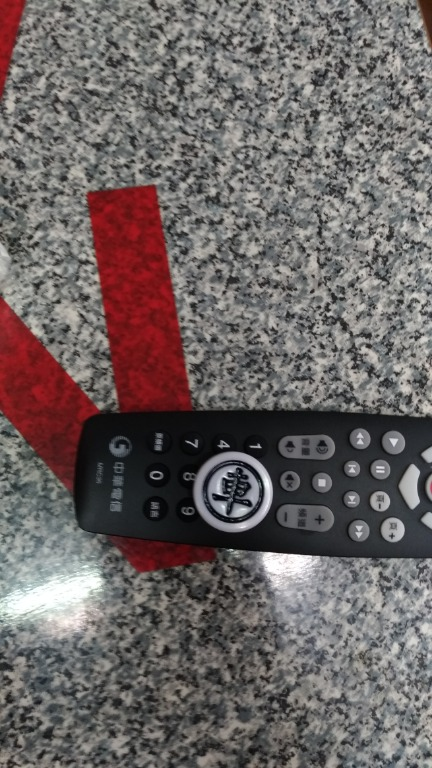b-king: (175, 437, 283, 541)
